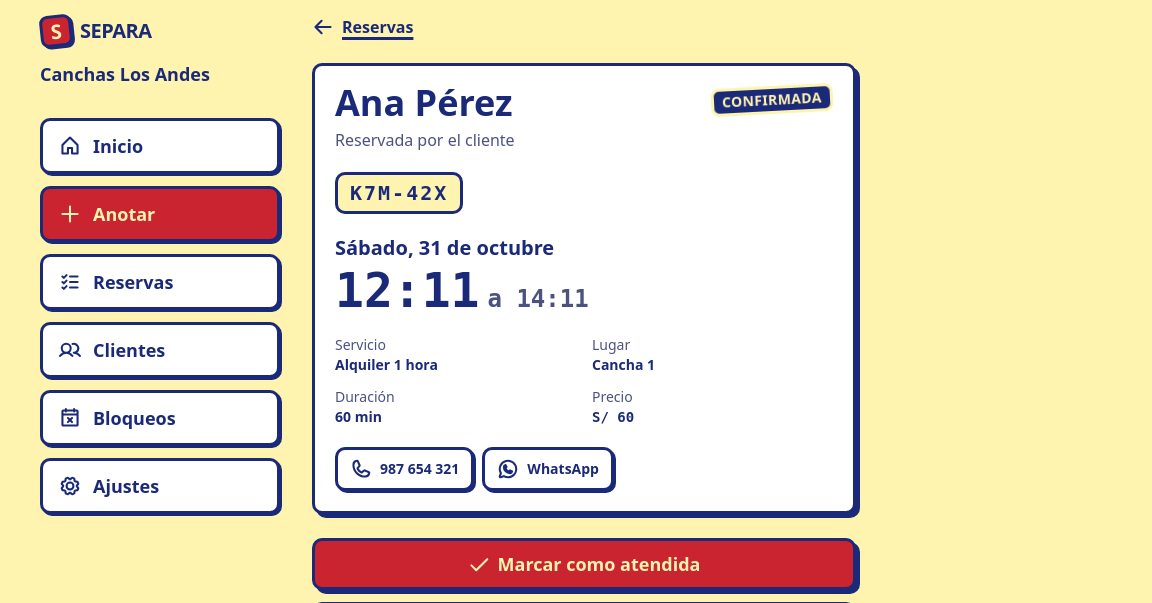
what can be done with a booking › shows the server's message when the action is refused
This screenshot has width=1152, height=603.
Click the button "Marcar como atendida".
click(584, 564)  # box [312,538,856,590]
(page scrolled)
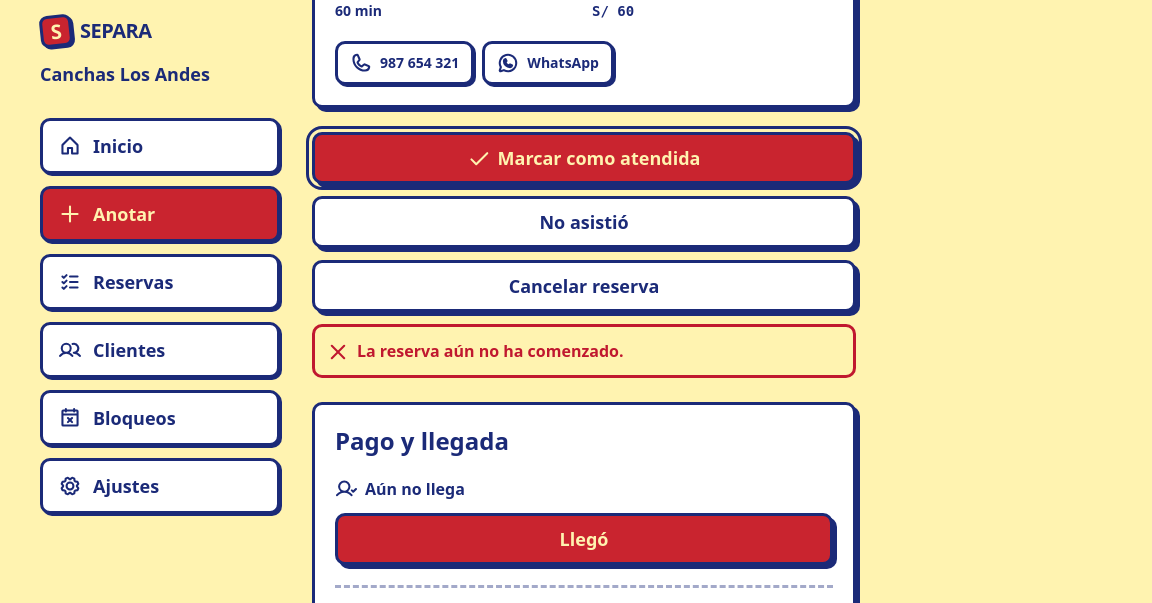
Check: the message reads "La reserva aún no ha comenzado.", box [357,340,624,362]
